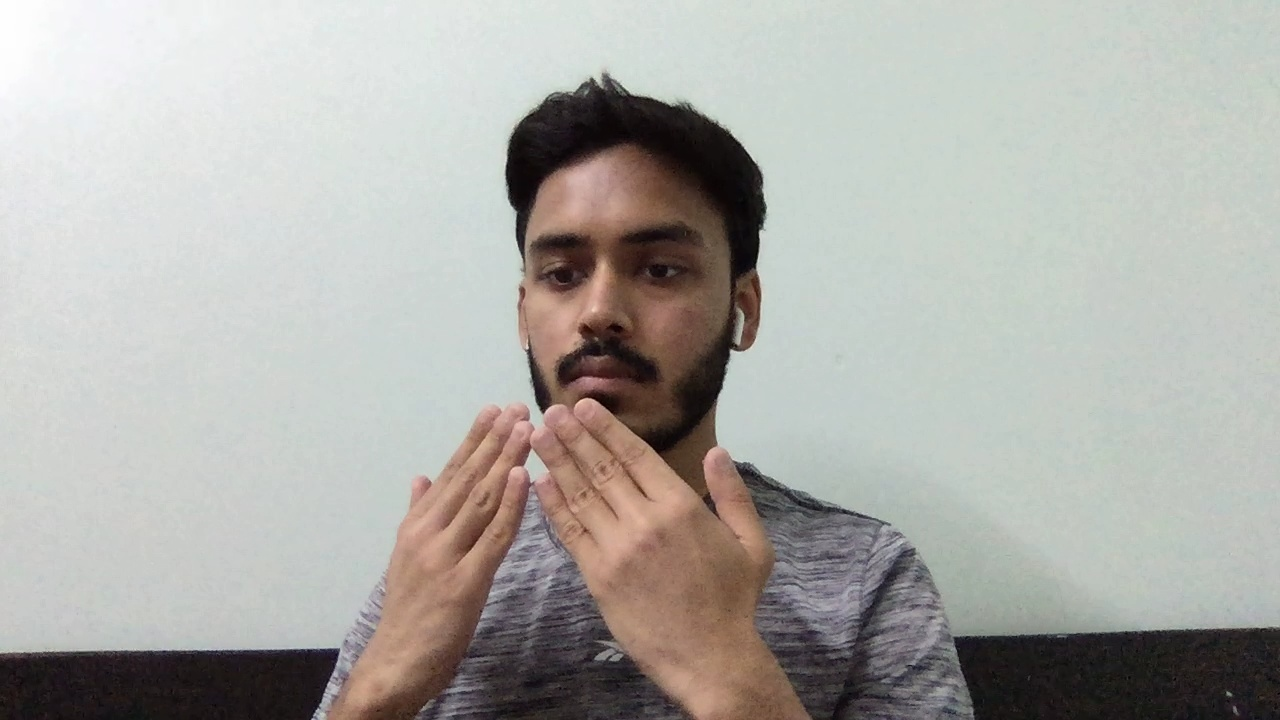Thank You: (361, 388, 797, 677)
